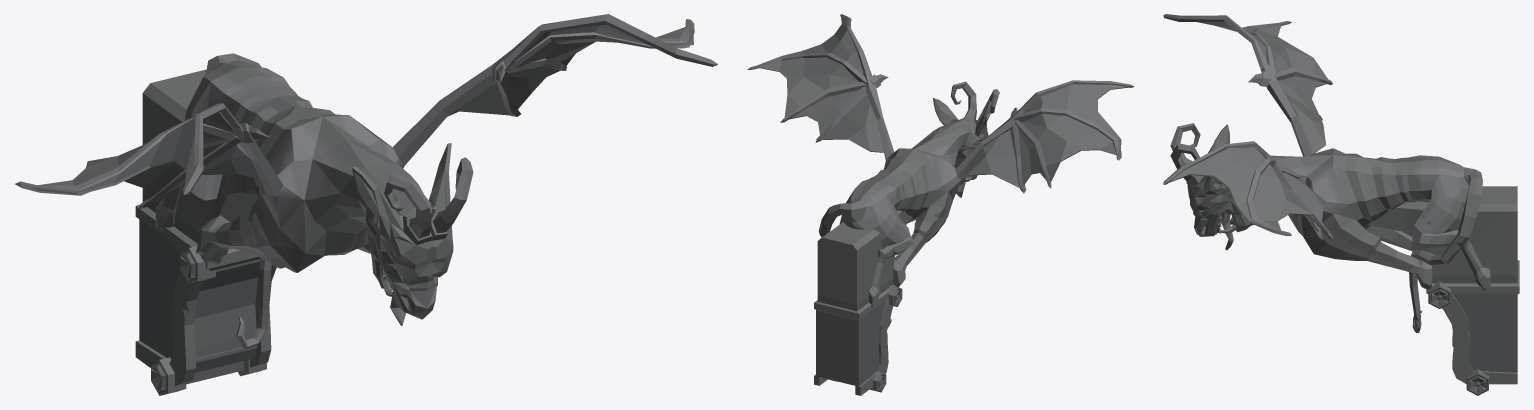
The model's file is crypt_gargoyle_b.gltf.
3 views of the same model, side by side, from view 1: azimuth 30°, elevation 25°; view 2: azimuth 150°, elevation 25°; view 3: azimuth 270°, elevation 25° (orthographic). The views are drawn at different scales.
Parts seen in each view (by area): view 1: crypt_gargoyle_b; view 2: crypt_gargoyle_b; view 3: crypt_gargoyle_b.
Boxes of the visible parts, x1,y1,x2,y2 form: crypt_gargoyle_b: (15, 14, 717, 395); crypt_gargoyle_b: (747, 14, 1134, 395); crypt_gargoyle_b: (1163, 14, 1519, 395).
Bounding box in the file's own units: 1.92 × 1.25 × 1.35.
Materials: 1 (1 with a texture image).
